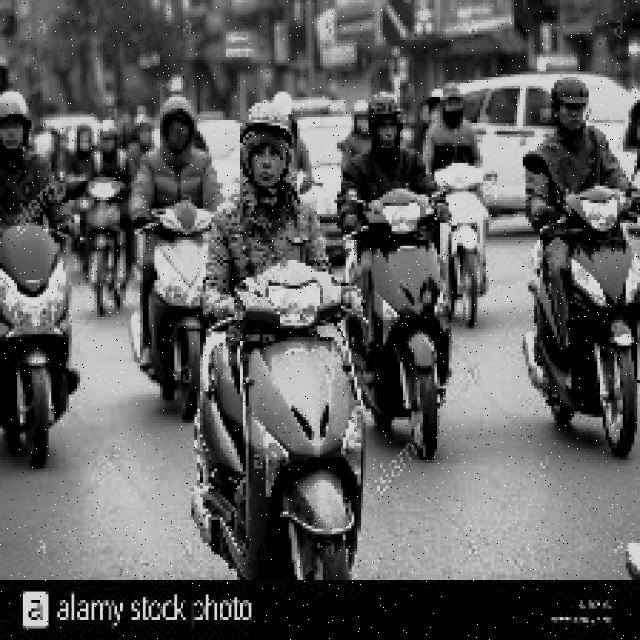Bike: (194, 265, 364, 579), (346, 181, 454, 452), (528, 168, 632, 442), (130, 188, 216, 402), (11, 215, 77, 463)
